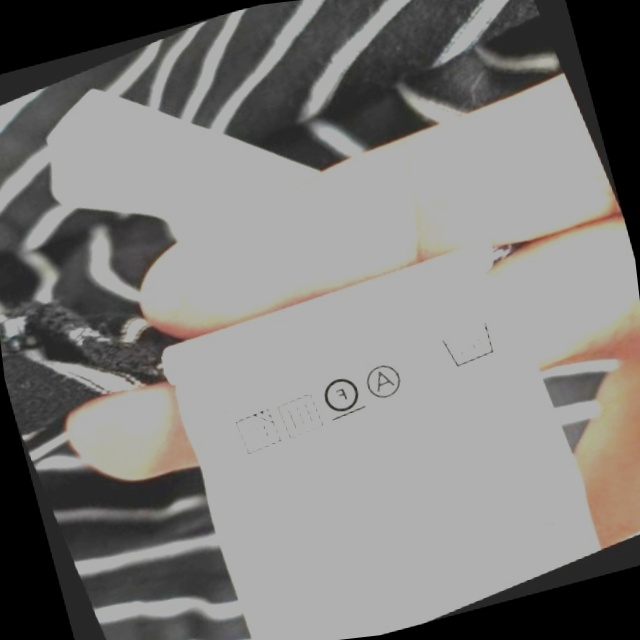95C: (434, 315, 503, 374)
bleach: (400, 336, 450, 390)
drip_dry: (270, 386, 329, 444)
drip_dry_in_shade: (226, 403, 286, 463)
dry_clean: (359, 355, 410, 406)
dry_clean_petrol_only: (314, 366, 368, 425)
